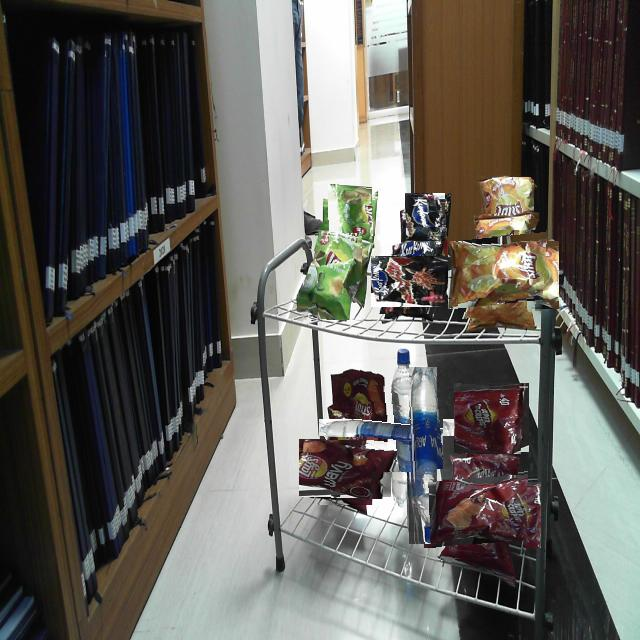Plastic: (436, 469, 528, 562), (458, 230, 548, 320), (354, 383, 443, 472), (308, 430, 383, 505), (301, 232, 362, 320), (455, 381, 528, 454), (408, 366, 437, 544), (379, 248, 445, 314), (325, 186, 375, 236), (334, 368, 385, 416), (478, 177, 534, 214), (403, 195, 447, 240)
